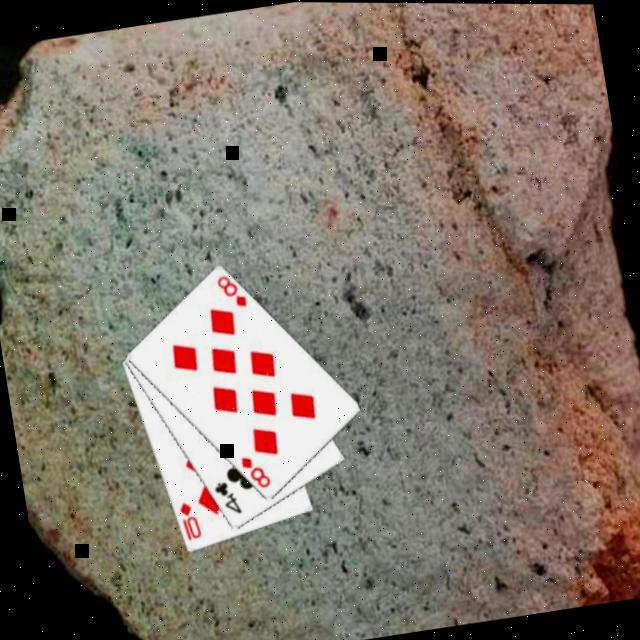10D: (174, 497, 202, 543)
4C: (208, 475, 244, 519)
8D: (235, 448, 273, 493), (211, 269, 249, 314)
